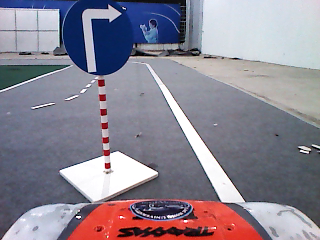turn: (60, 1, 134, 77)
